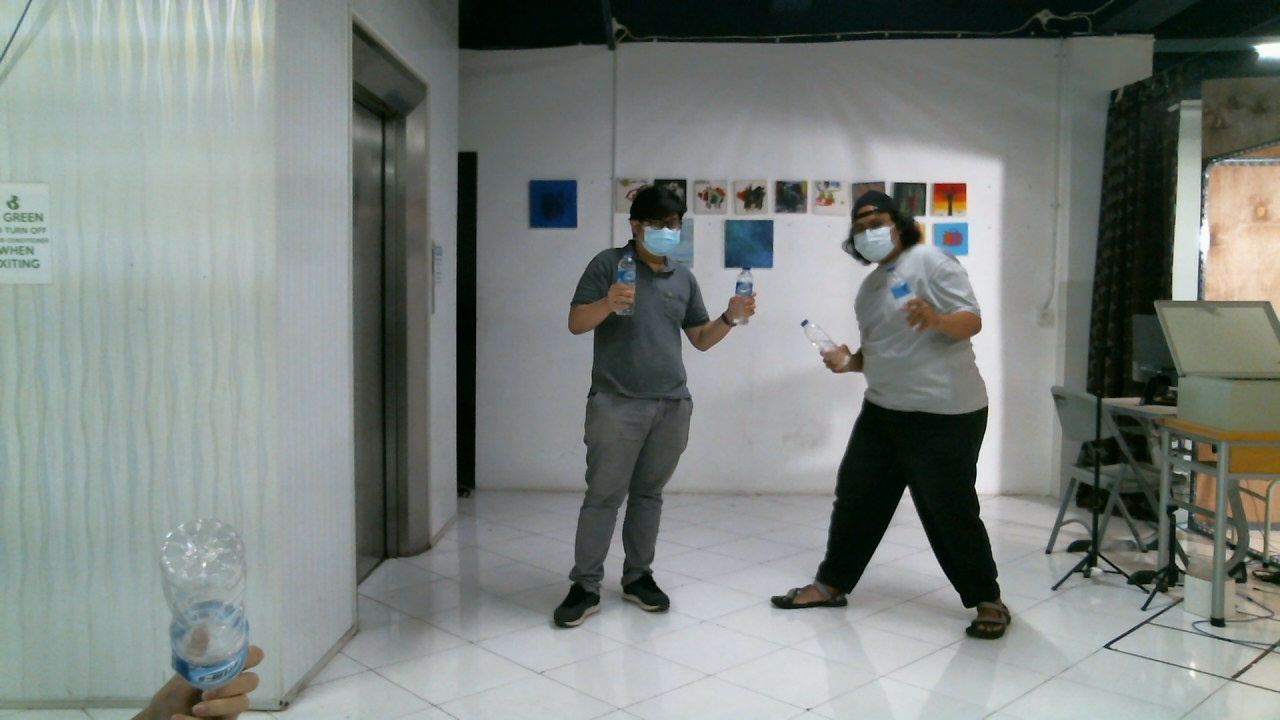Bottle: (161, 516, 254, 691)
